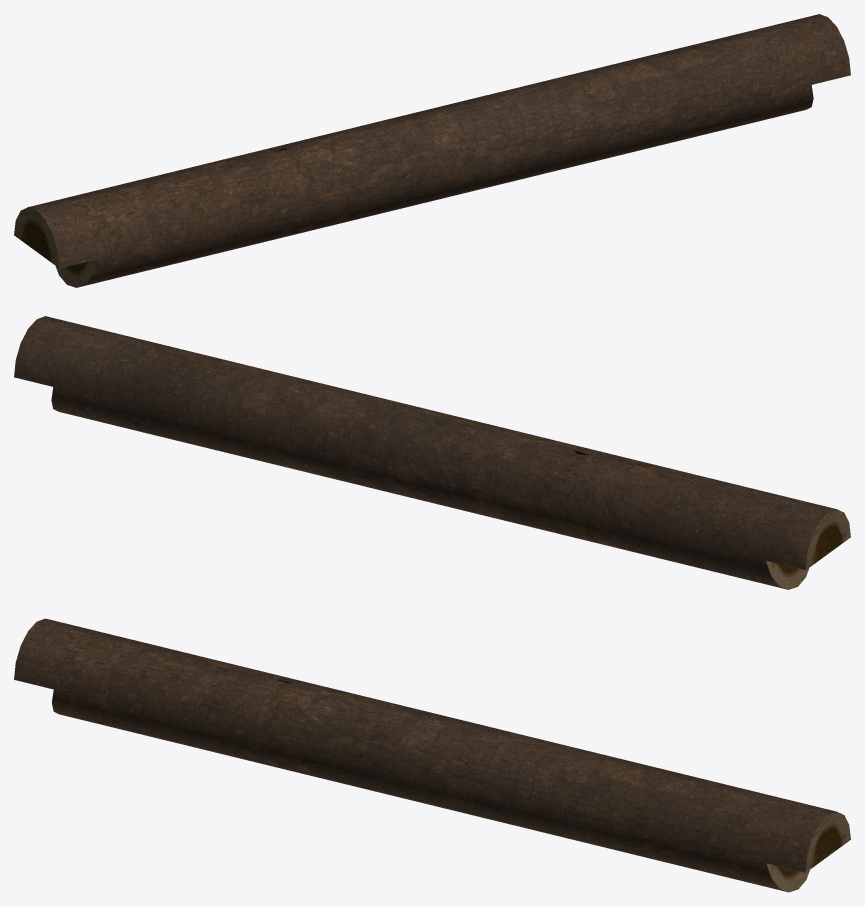
The model's file is ThreeSupportAA.glb.
3 views of the same model, one above another, from view 1: azimuth 30°, elevation 25°; view 2: azimuth 150°, elevation 25°; view 3: azimuth 330°, elevation 25° (orthographic).
Visible parts, largest first — view 1: ThreeSupportAA; view 2: ThreeSupportAA; view 3: ThreeSupportAA.
Boxes of the visible parts, x1,y1,x2,y2 form: ThreeSupportAA: (14, 14, 850, 287); ThreeSupportAA: (14, 316, 850, 589); ThreeSupportAA: (14, 618, 850, 892).
Bounding box in the file's own units: 2.01 × 0.1985 × 0.2.
1 material, 1 textured.
